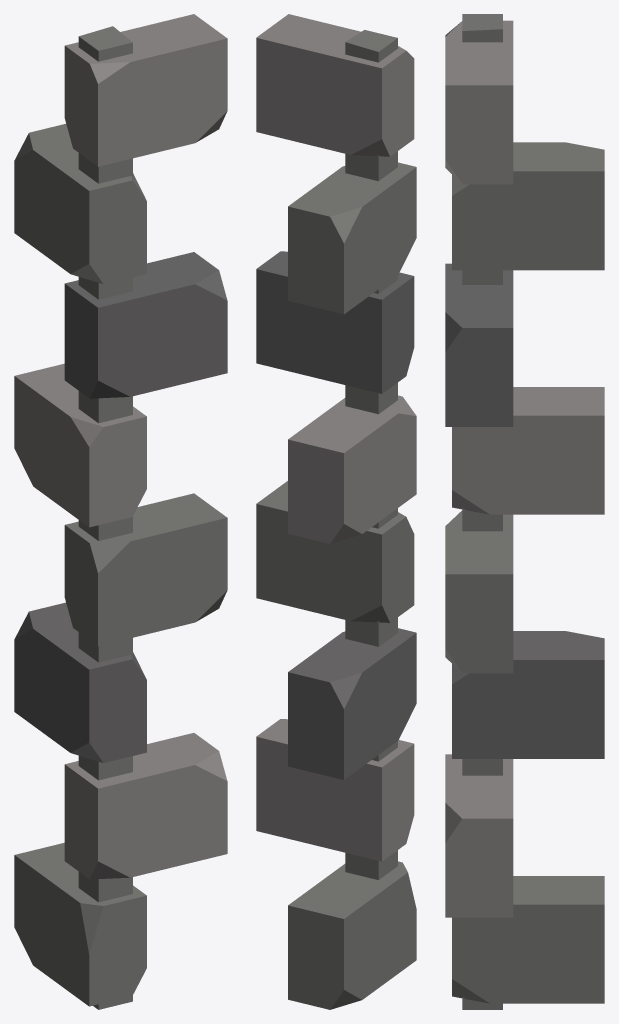
The model's file is SM_Bld_Wall_Brick_Corner_01.fbx.
3 renders of one model, left to right at view 1: azimuth 30°, elevation 25°; view 2: azimuth 150°, elevation 25°; view 3: azimuth 270°, elevation 25°, orthographic. The views are drawn at different scales.
Visible parts, largest first — view 1: SM_Bld_Wall_Brick_Corner_01; view 2: SM_Bld_Wall_Brick_Corner_01; view 3: SM_Bld_Wall_Brick_Corner_01.
Boxes of the visible parts, box(x1,y1,x2,y2) form: SM_Bld_Wall_Brick_Corner_01: box(14, 14, 227, 1009); SM_Bld_Wall_Brick_Corner_01: box(256, 14, 416, 1009); SM_Bld_Wall_Brick_Corner_01: box(445, 14, 604, 1009).
Bounding box in the file's own units: 44.21 × 301 × 44.21.
